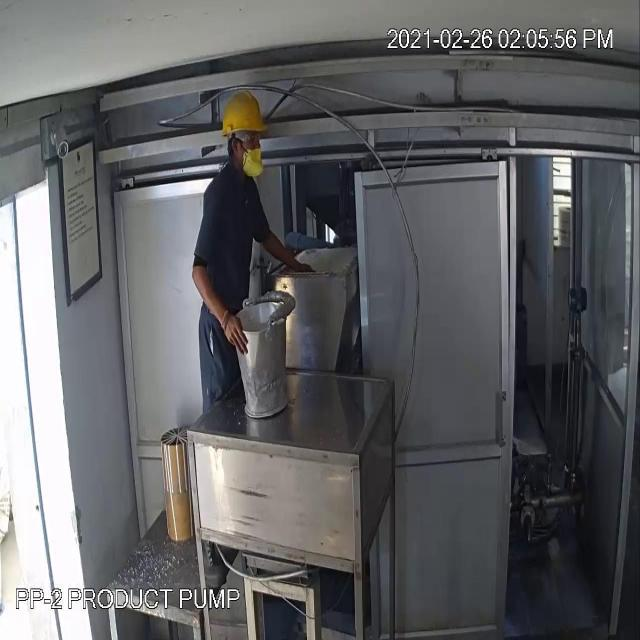hat: (217, 87, 273, 147)
